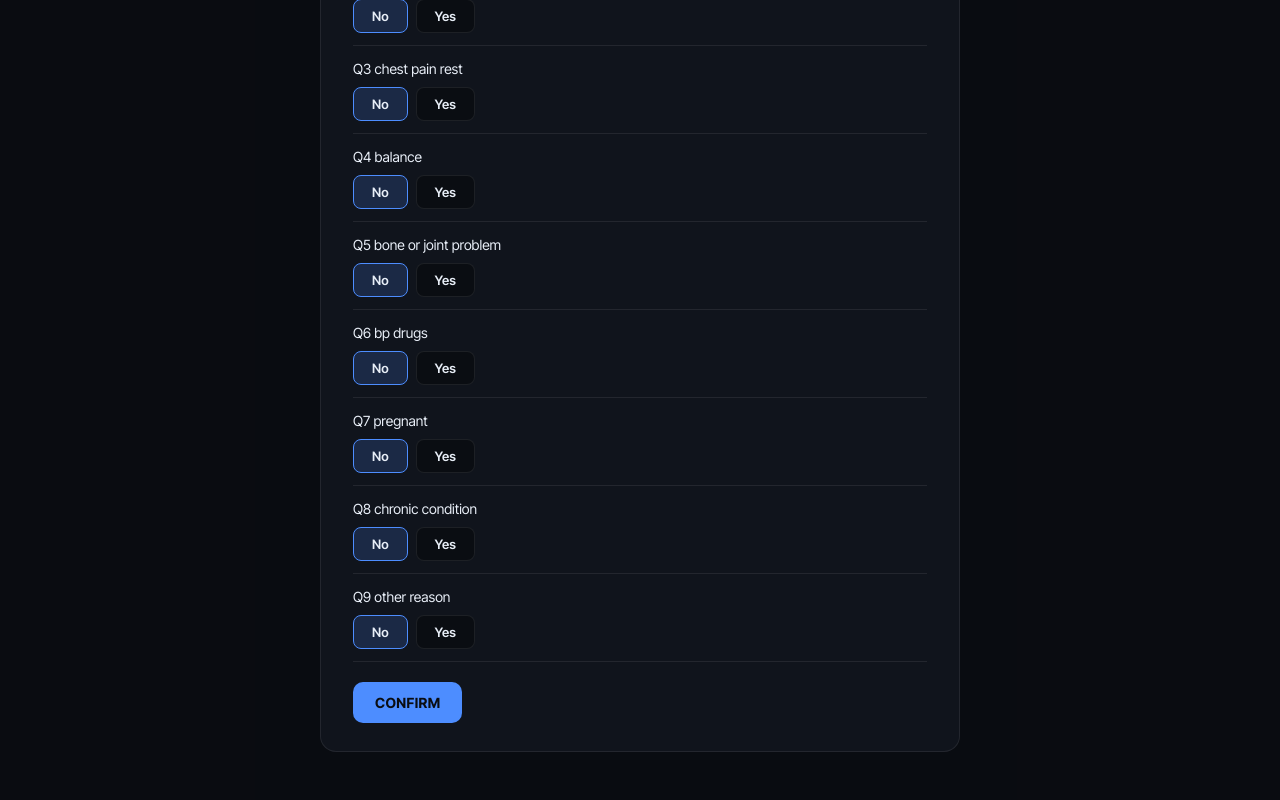
Test: <ParQGate> › Q8=Yes appends the chronic-condition clinician line in the banner
The width and height of the screenshot is (1280, 800).
(page scrolled)
expect the list with test id "parq-questions" is shown: met, box [353,0,927,662]
Click the radio button "Yes" below "Q8 chronic condition".
click(445, 544)  # box [416,527,475,561]
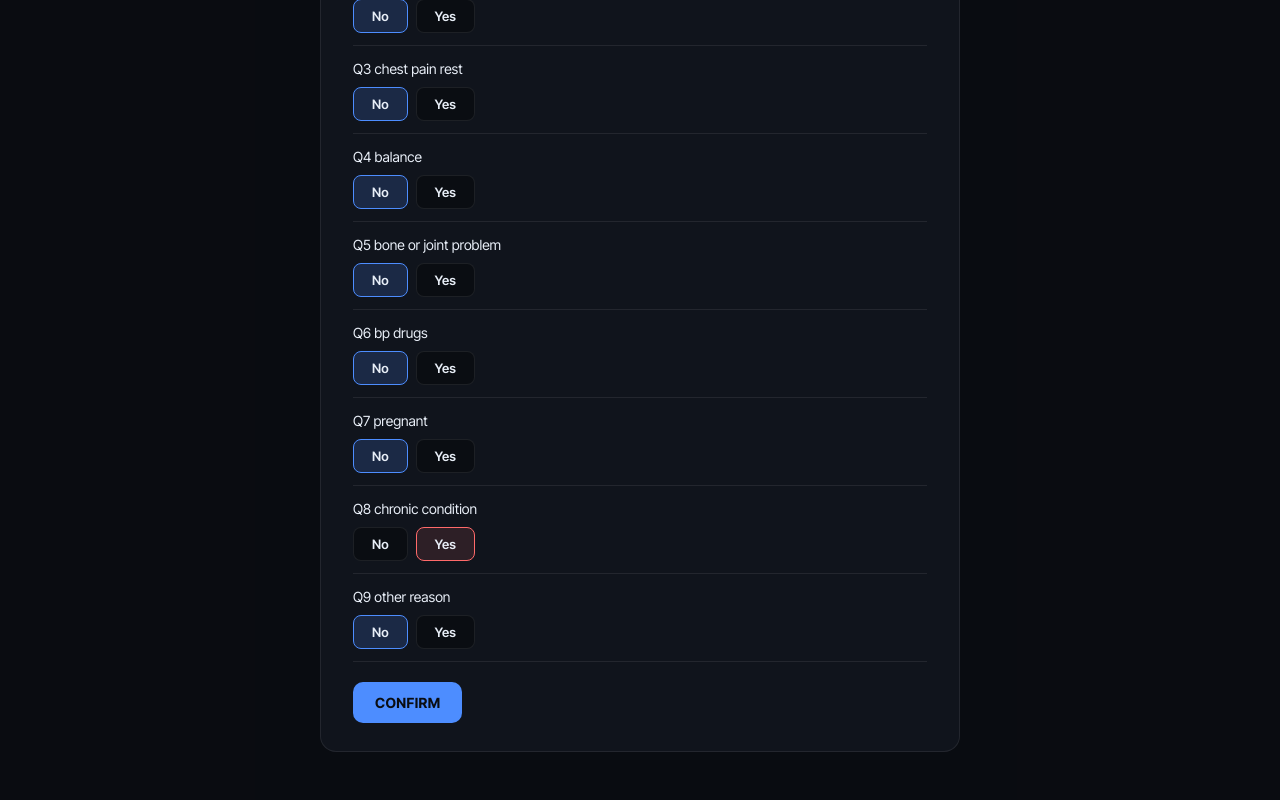
Click the button "CONFIRM".
click(408, 702)  # box [353,682,462,723]
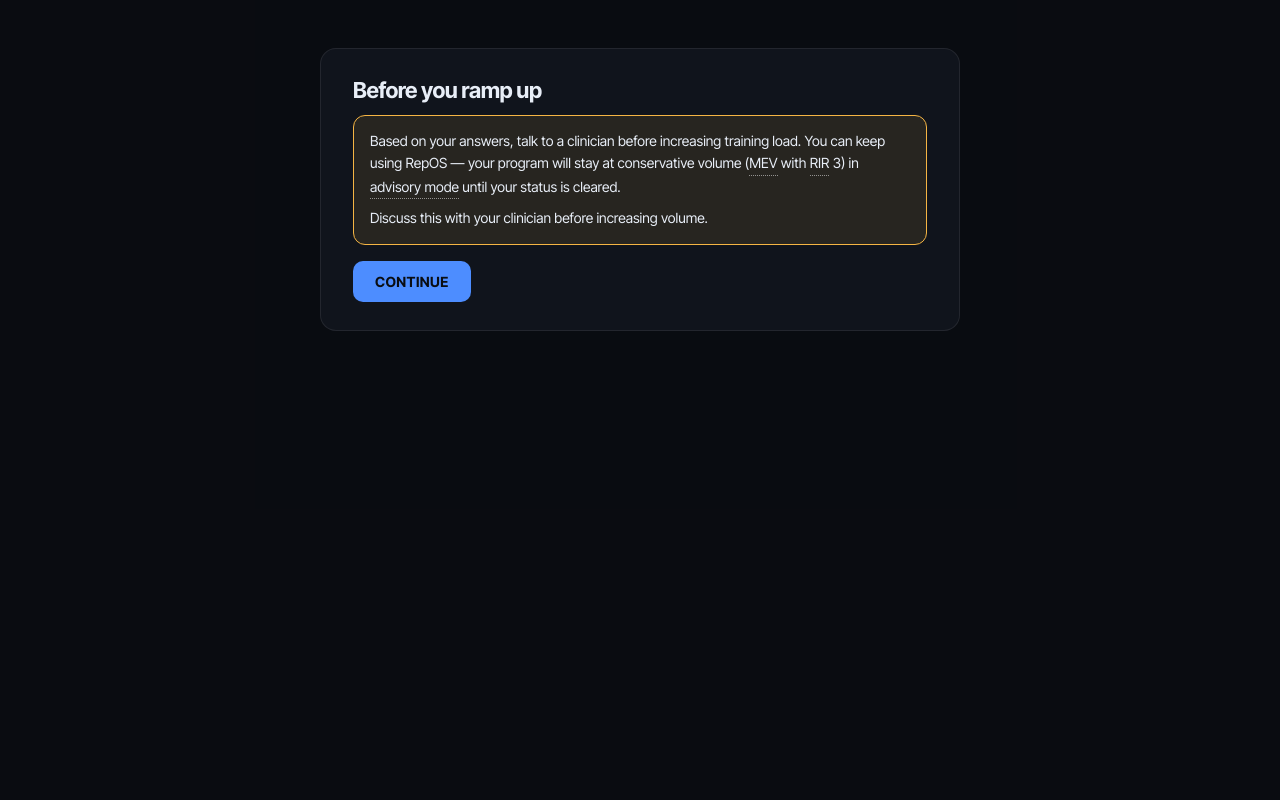
expect the message shows "Discuss this with your clinician before increasing volume": met, box [370,209,708,226]
